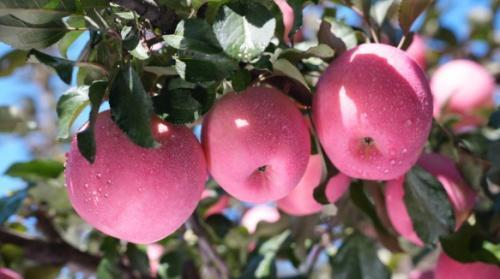apple: (61, 107, 206, 241), (310, 40, 438, 184), (200, 83, 314, 203)
